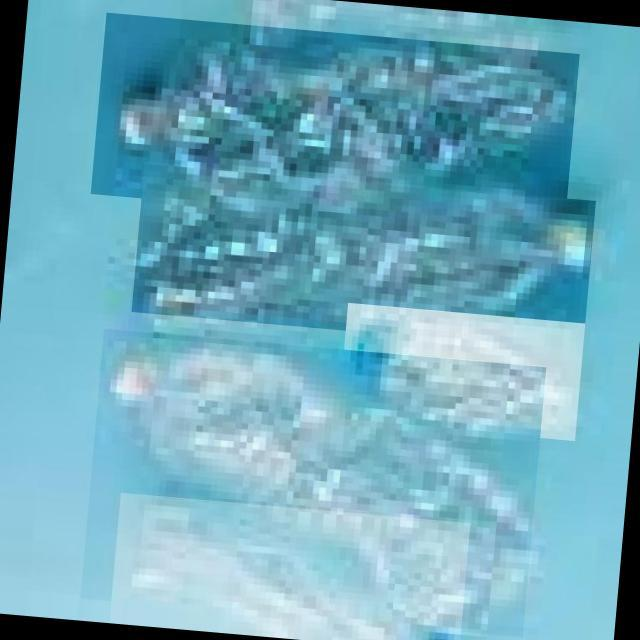defected: (79, 328, 545, 637), (89, 11, 578, 234), (130, 160, 594, 350), (108, 492, 469, 640), (336, 302, 584, 440)
